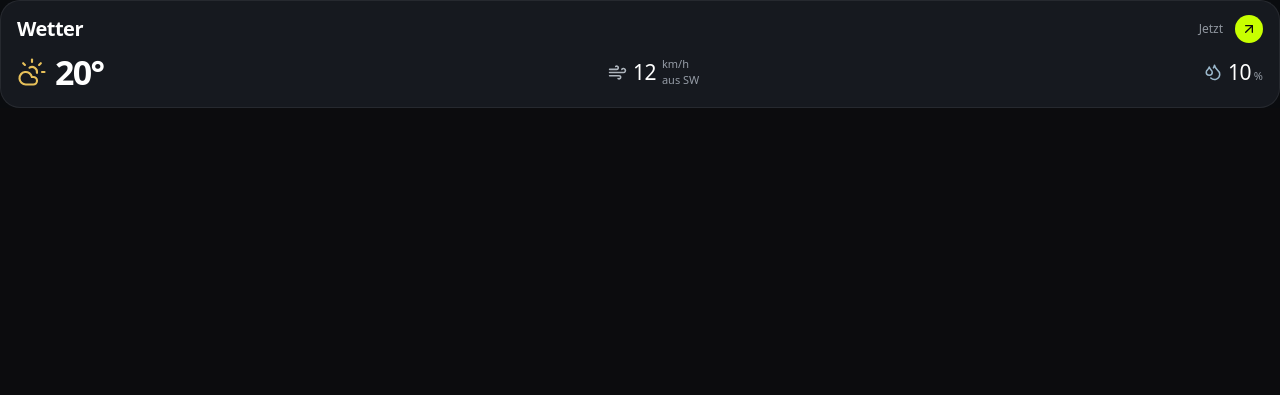
Test: Today weather › updates gusts and rain together when an hour is selected
Click the button named "Wetter öffnen" at (1249, 29), box [1235,15,1263,43]
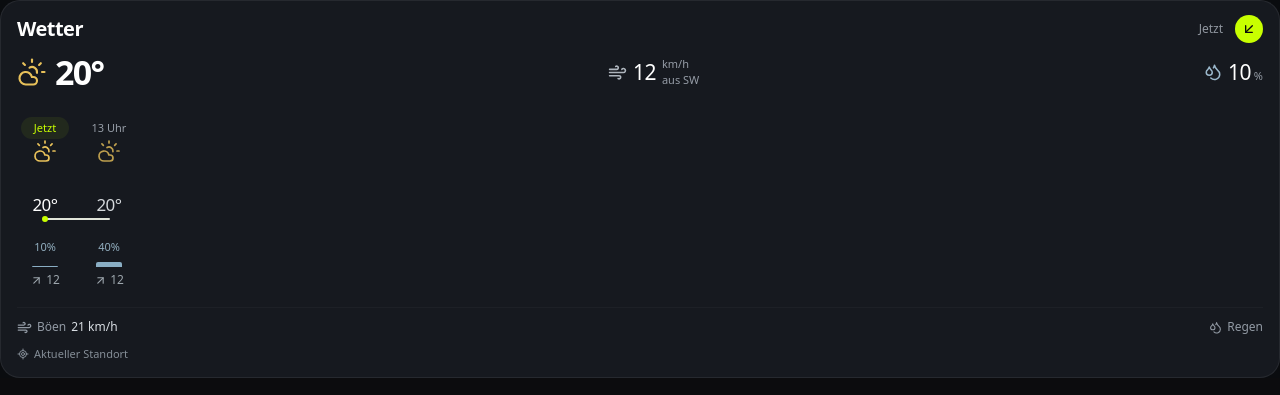
Click the button with aria-label "13:00 Uhr" at (109, 207), box [77,107,141,307]
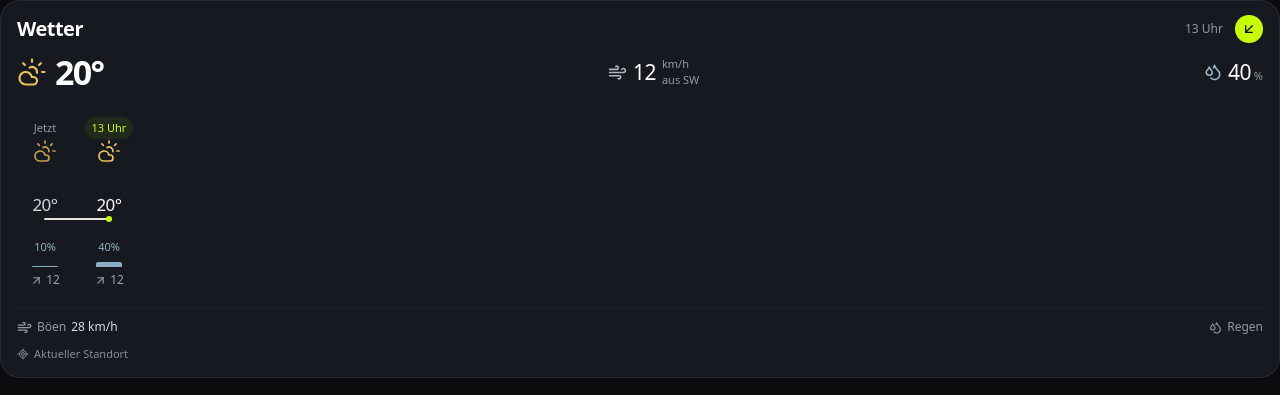
Now the text "28 km/h" is shown, box [71,318,118,336]
Now the element named "Regenwahrscheinlichkeit 40 Prozent" is shown, box [1204,62,1263,82]
Now the text "21 km/h" is gone
